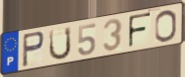3: (102, 17, 125, 53)
5: (77, 21, 97, 56)
F: (127, 11, 153, 49)
O: (154, 9, 178, 43)
P: (21, 30, 46, 69)
U: (48, 26, 73, 62)
